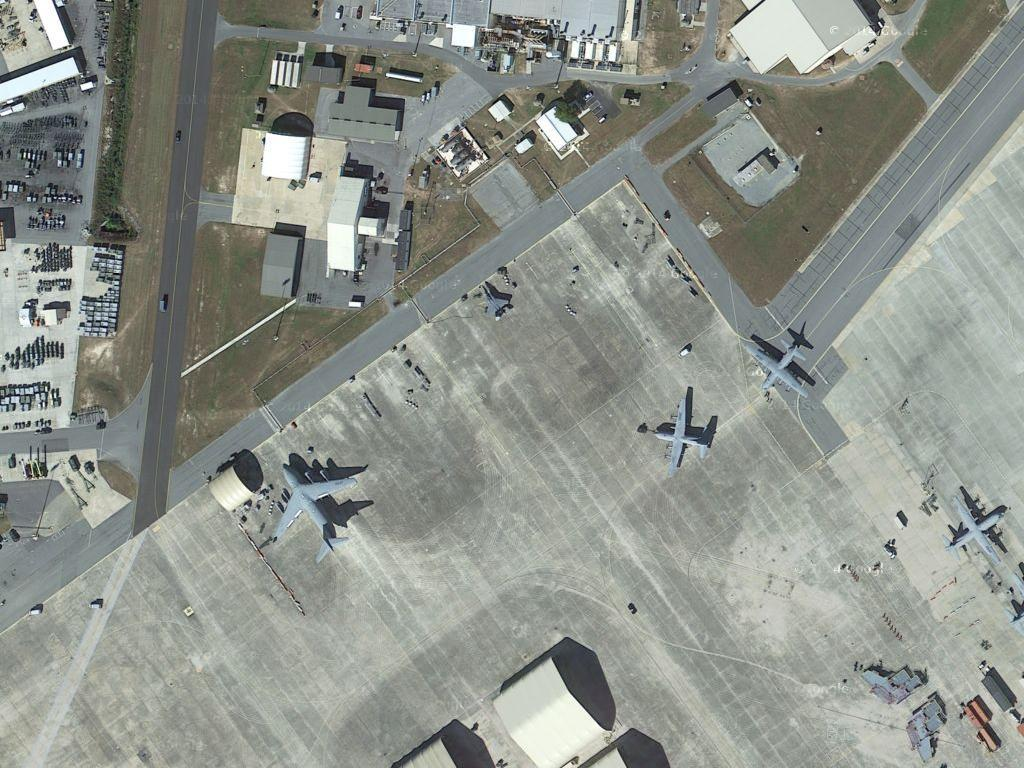C-130: (646, 390, 719, 476), (742, 327, 819, 406), (944, 482, 1009, 566)
C-17: (265, 457, 365, 560)
